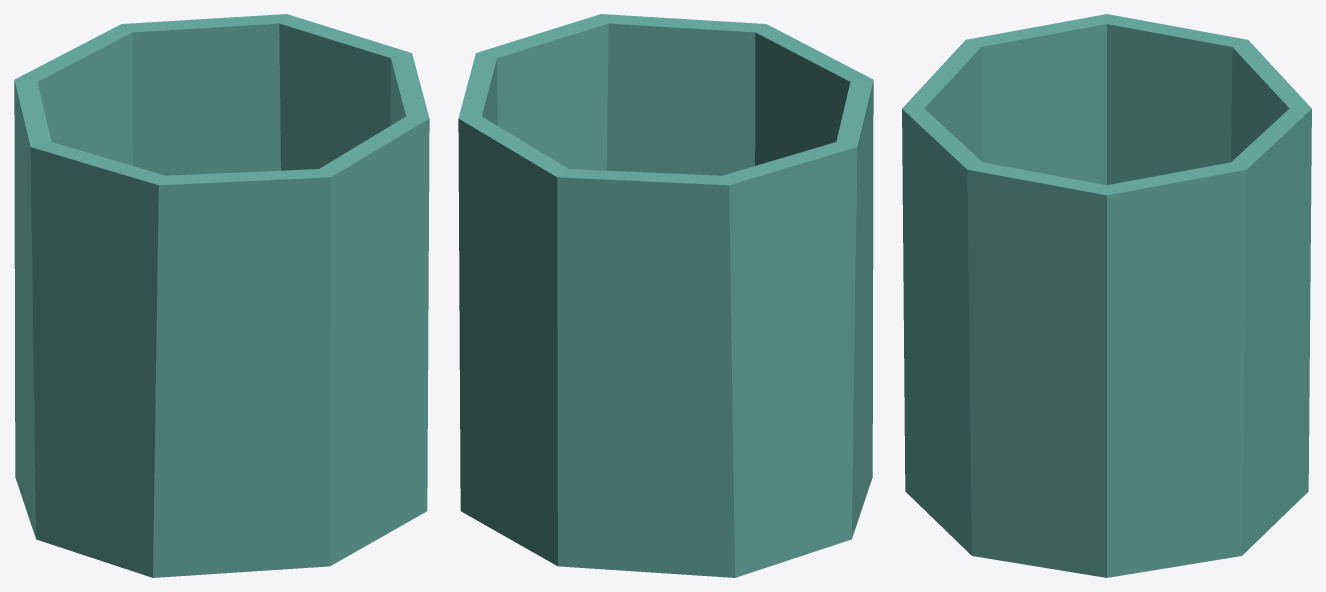
The model's file is Office_Vase.fbx.
3 views of the same model, side by side, from view 1: azimuth 30°, elevation 25°; view 2: azimuth 150°, elevation 25°; view 3: azimuth 270°, elevation 25° (orthographic). The views are drawn at different scales.
Parts seen in each view (by area): view 1: Office_Vase; view 2: Office_Vase; view 3: Office_Vase.
Part boxes in pixels (x1,y1,x2,y2): Office_Vase: [14, 14, 429, 577]; Office_Vase: [458, 14, 873, 577]; Office_Vase: [902, 14, 1311, 577].
Bounding box in the file's own units: 20.22 × 20.34 × 19.22.
